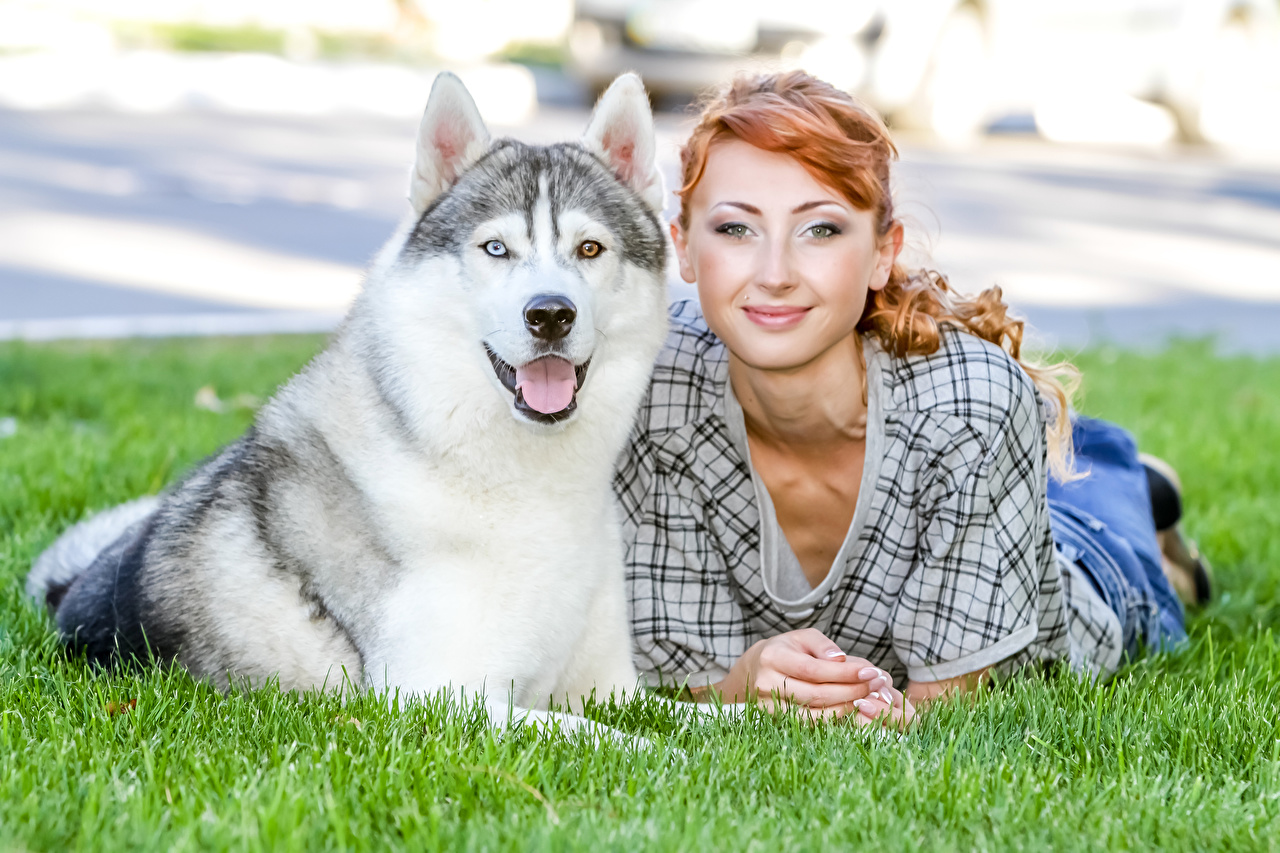husky: (364, 44, 689, 483)
